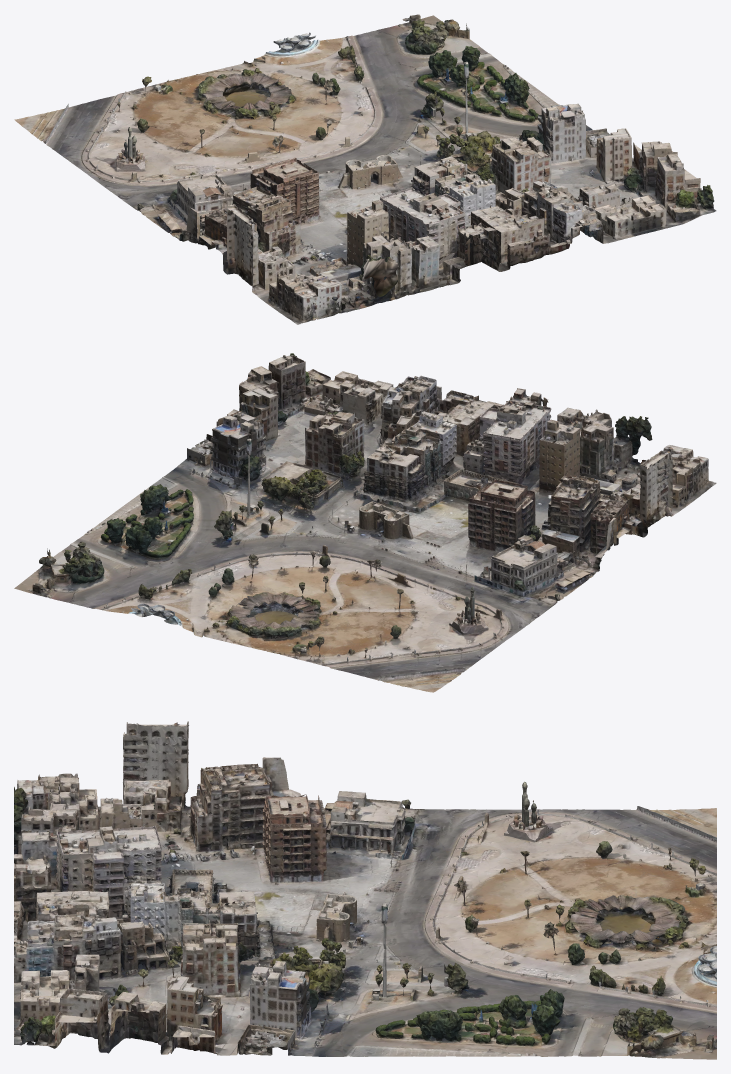
3 renders of one model, top to bottom at view 1: azimuth 30°, elevation 25°; view 2: azimuth 150°, elevation 25°; view 3: azimuth 270°, elevation 25°, orthographic. The views are drawn at different scales.
Visible parts, largest first — view 1: S23; view 2: S23; view 3: S23.
Boxes of the visible parts, x1,y1,x2,y2 form: S23: [14, 14, 716, 324]; S23: [14, 353, 716, 692]; S23: [14, 721, 716, 1059].
Bounding box in the file's own units: 210 × 45.49 × 246.
1 material, 1 textured.
